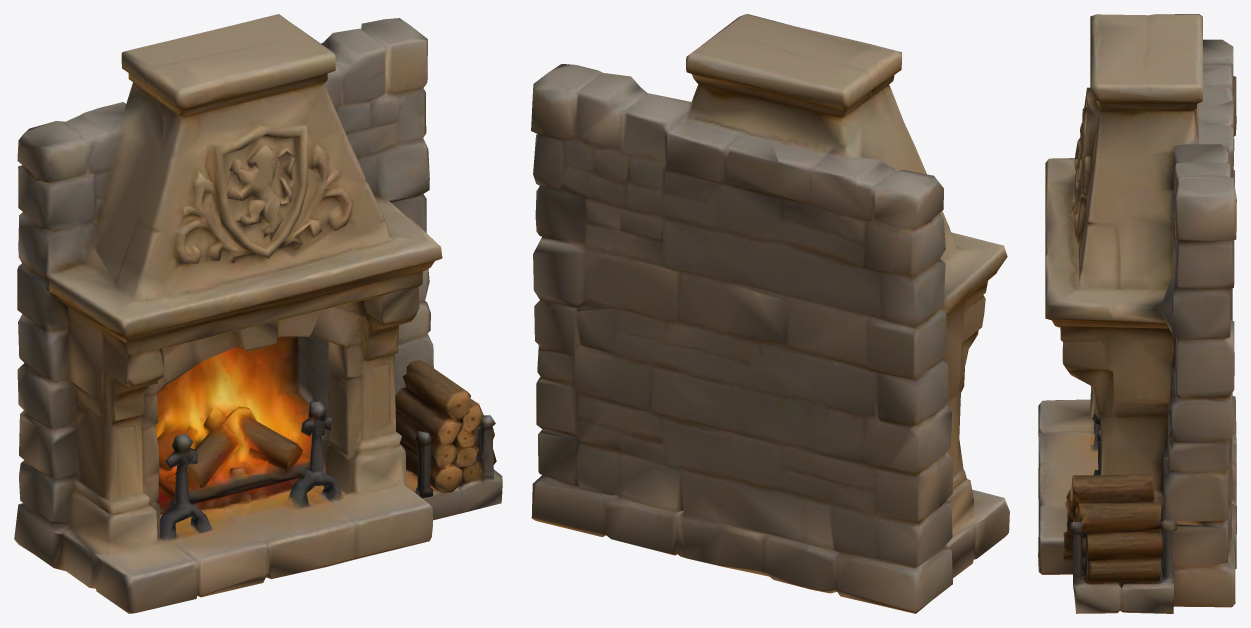
Rendered from fireplace.glb.
The picture shows the model from 3 angles, left to right: view 1: azimuth 30°, elevation 25°; view 2: azimuth 150°, elevation 25°; view 3: azimuth 270°, elevation 25°; orthographic projection. The views are drawn at different scales.
Parts seen in each view (by area): view 1: fireplace; view 2: fireplace; view 3: fireplace.
Boxes of the visible parts, box(x1,y1,x2,y2) form: fireplace: box(14, 14, 502, 613); fireplace: box(531, 14, 1009, 613); fireplace: box(1038, 14, 1236, 613).
Bounding box in the file's own units: 4.35 × 4.99 × 1.95.
1 material, 1 textured.
